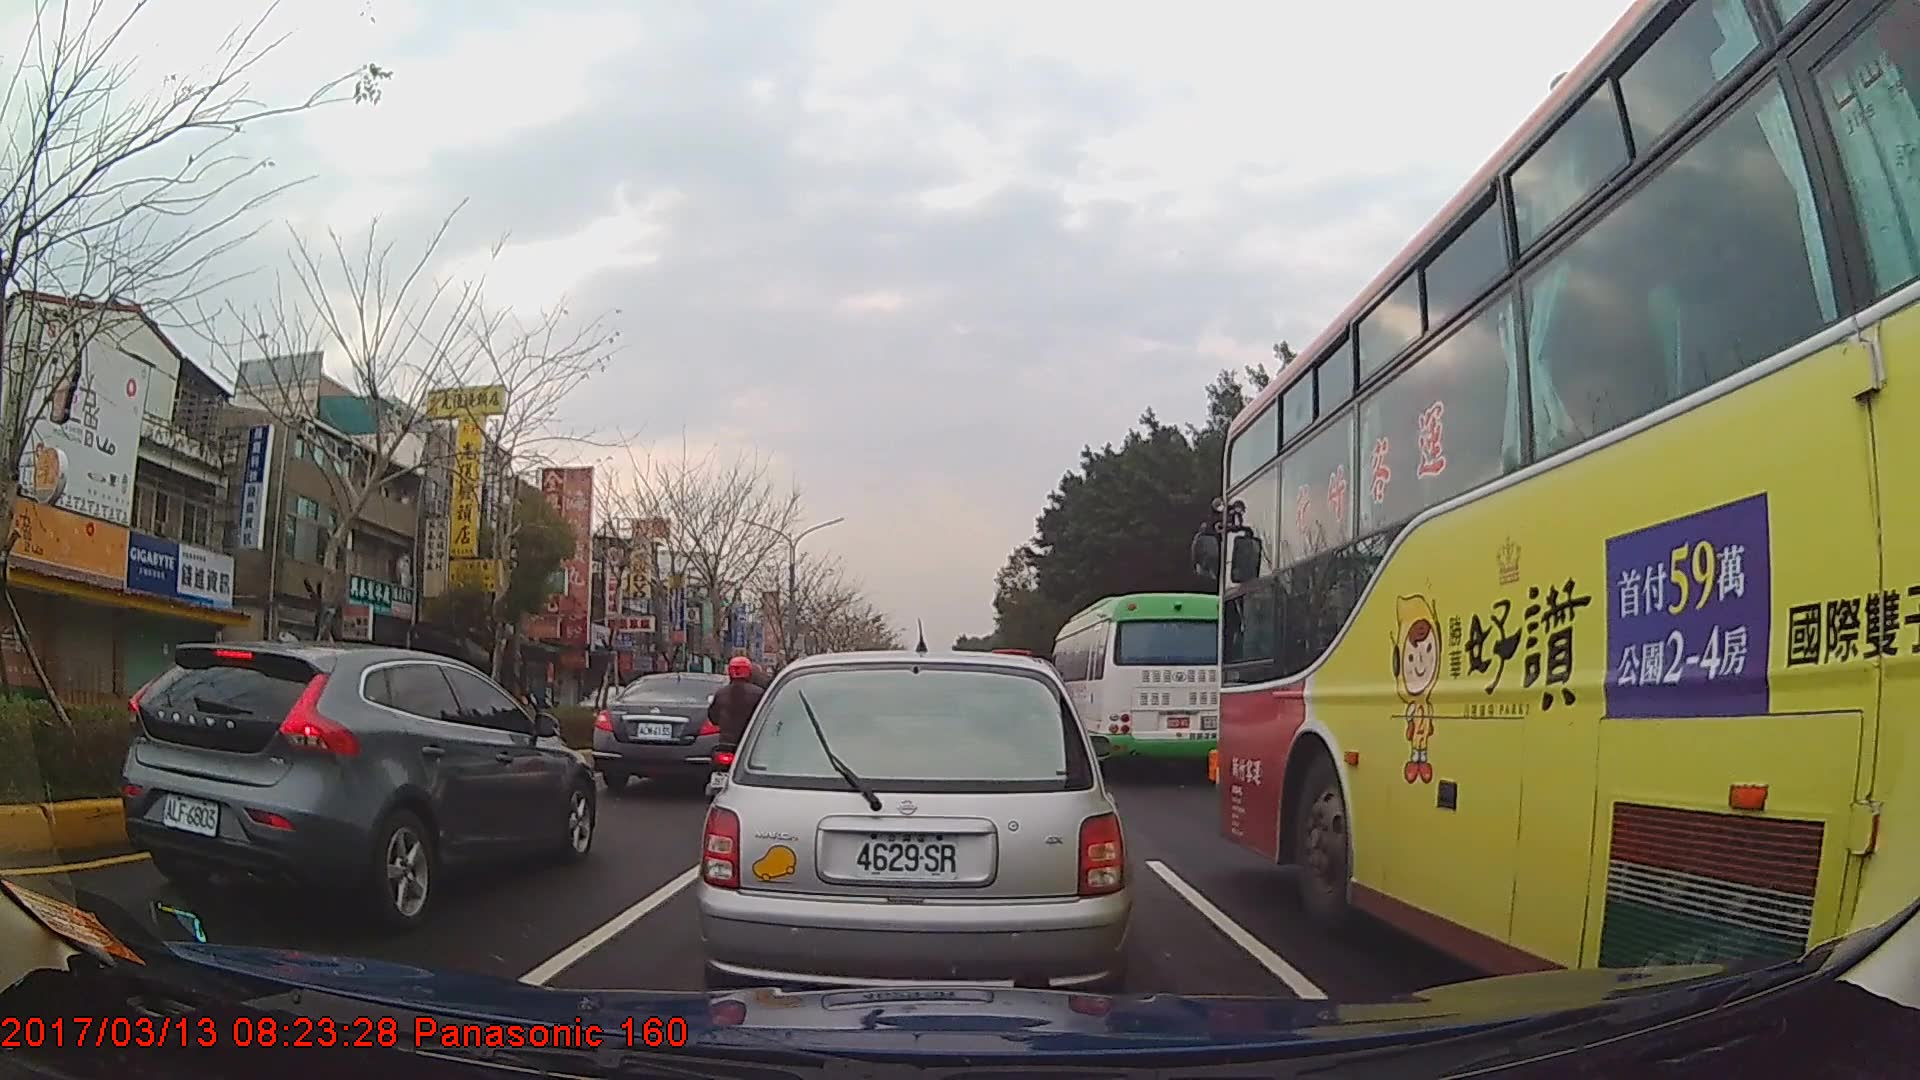rider: (706, 655, 780, 820)
vehicle: (1217, 0, 1920, 1010), (696, 646, 1131, 1002), (116, 639, 596, 930), (1050, 590, 1233, 782), (595, 670, 764, 794)
